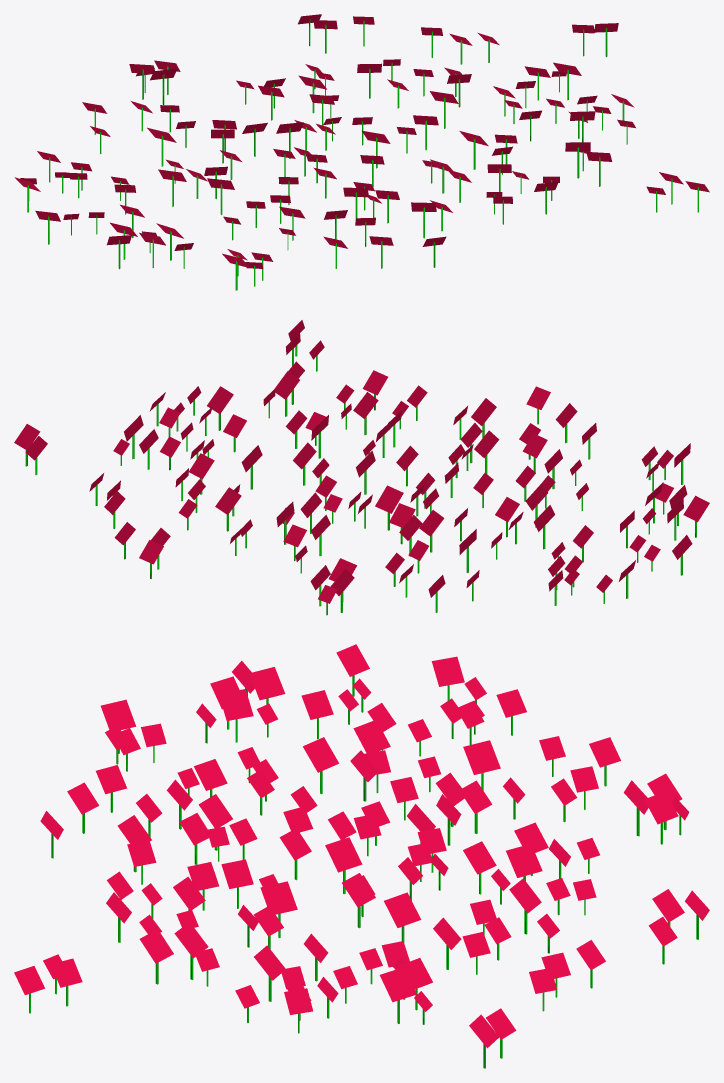
File: fleur_Unity.fbx
3 renders of one model, top to bottom at view 1: azimuth 30°, elevation 25°; view 2: azimuth 150°, elevation 25°; view 3: azimuth 270°, elevation 25°, orthographic. The views are drawn at different scales.
Visible parts, largest first — view 1: Circle; view 2: Circle; view 3: Circle.
Boxes of the visible parts, x1,y1,x2,y2 form: Circle: [14, 14, 709, 290]; Circle: [14, 320, 709, 615]; Circle: [14, 644, 709, 1068].
Bounding box in the file's own units: 7.84 × 0.4688 × 5.97.
